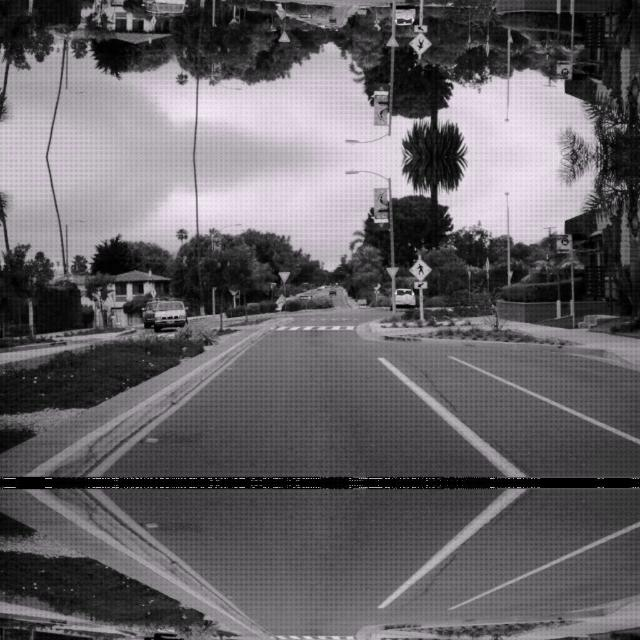pedestrianCrossing: (408, 256, 432, 280), (408, 33, 432, 56)
yield: (386, 265, 398, 277), (386, 35, 398, 47), (277, 270, 289, 280), (277, 32, 289, 42)
